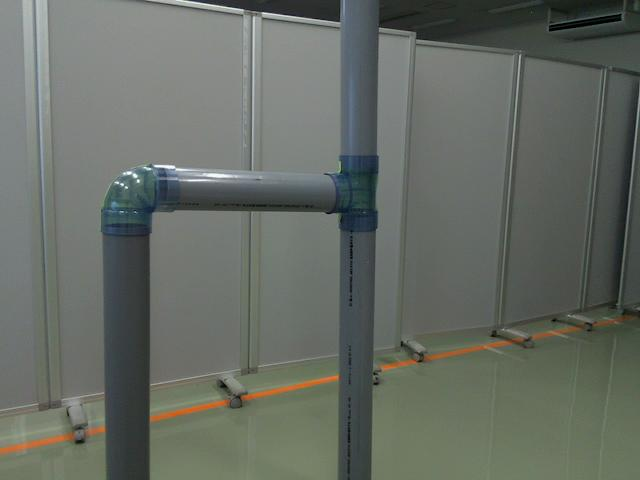bent: (98, 164, 182, 239)
junction: (324, 154, 380, 232)
